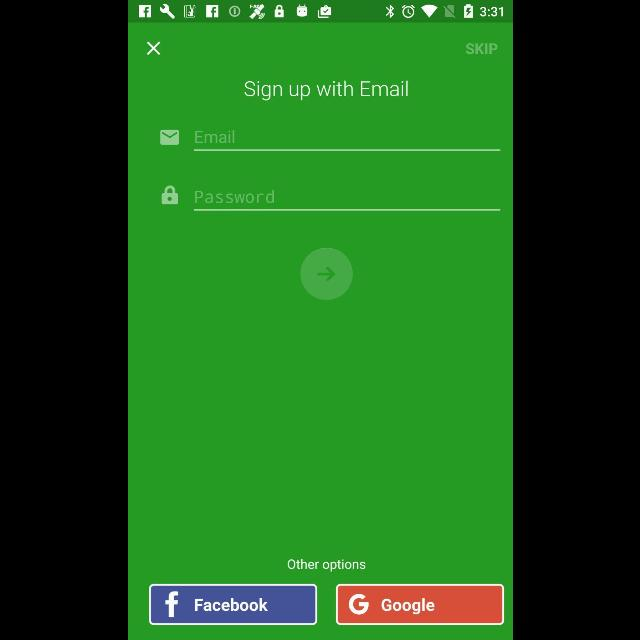button: (300, 248, 352, 300)
icon: (160, 186, 178, 204), (160, 130, 178, 146), (146, 42, 160, 56)
input: (192, 130, 500, 152), (194, 190, 501, 210)
text: (243, 80, 407, 102), (287, 558, 365, 572), (194, 190, 274, 203), (194, 130, 233, 144), (465, 43, 497, 55)
textbutton: (334, 583, 503, 625), (148, 584, 316, 626)
uppertaskbar: (128, 1, 512, 23)
